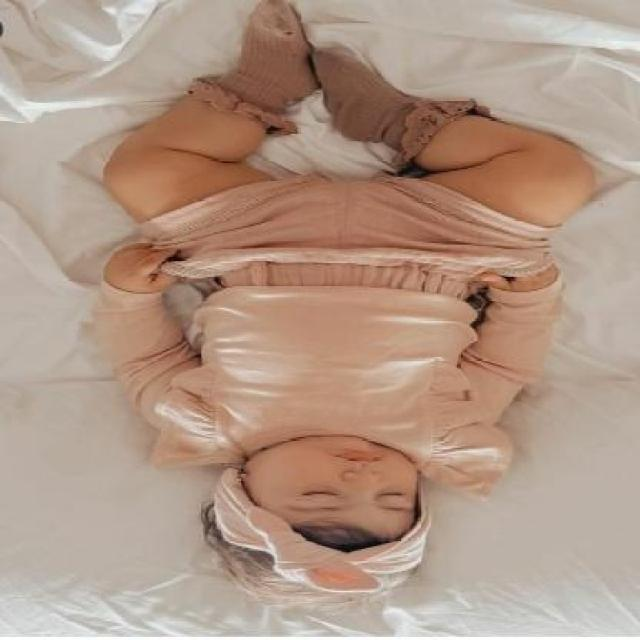baby: (95, 8, 592, 606)
